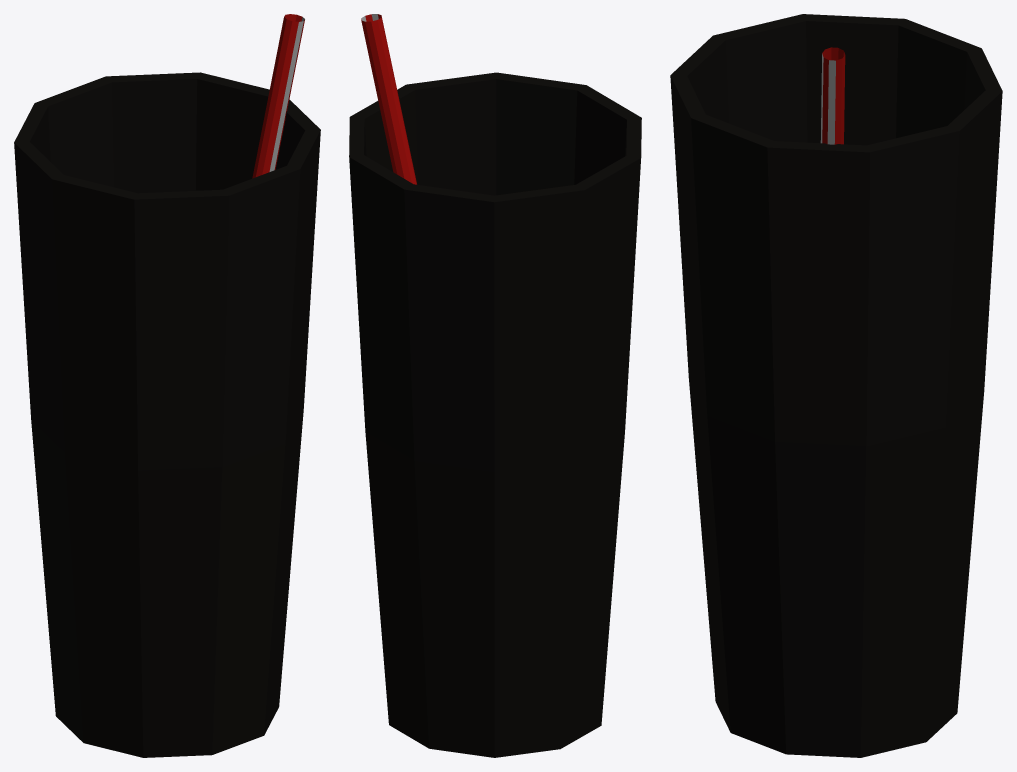
File: vaso de soda con popote.FBX
3 renders of one model, left to right at view 1: azimuth 30°, elevation 25°; view 2: azimuth 150°, elevation 25°; view 3: azimuth 270°, elevation 25°, orthographic. The views are drawn at different scales.
Visible parts, largest first — view 1: vaso de soda, popote; view 2: vaso de soda, popote; view 3: vaso de soda, popote.
Part boxes in pixels (<box>): vaso de soda: <box>14,72,320,757</box>; popote: <box>252,14,304,178</box>; vaso de soda: <box>349,72,641,757</box>; popote: <box>361,14,416,184</box>; vaso de soda: <box>670,14,1002,757</box>; popote: <box>820,47,845,144</box>.
Size of the model in its own units: 7.5 by 17.95 by 7.49.
